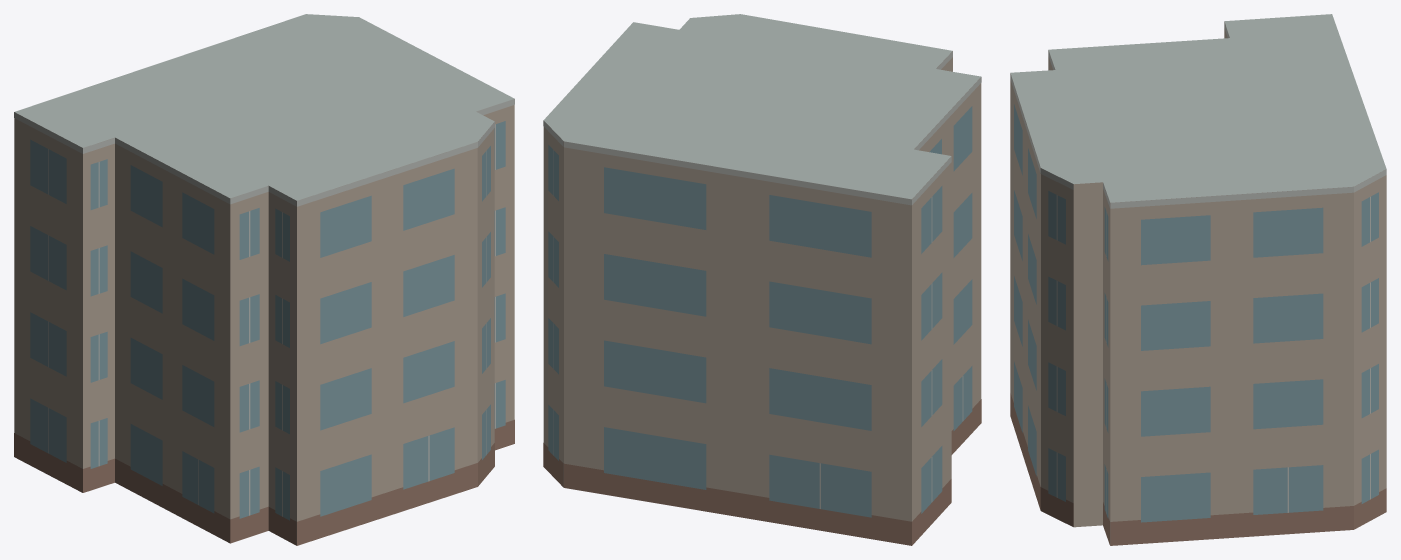
File: survey-upis-32631684.glb
The picture shows the model from 3 angles, left to right: view 1: azimuth 30°, elevation 25°; view 2: azimuth 150°, elevation 25°; view 3: azimuth 270°, elevation 25°; orthographic projection.
Parts seen in each view (by area): view 1: survey-upis-32631684.tmp; view 2: survey-upis-32631684.tmp; view 3: survey-upis-32631684.tmp.
Part boxes in pixels (left/top/right/bottom): survey-upis-32631684.tmp: left=14, top=14, right=514, bottom=545; survey-upis-32631684.tmp: left=543, top=14, right=981, bottom=545; survey-upis-32631684.tmp: left=1010, top=14, right=1386, bottom=545.
Size of the model in its own units: 16.53 by 14 by 13.92.
